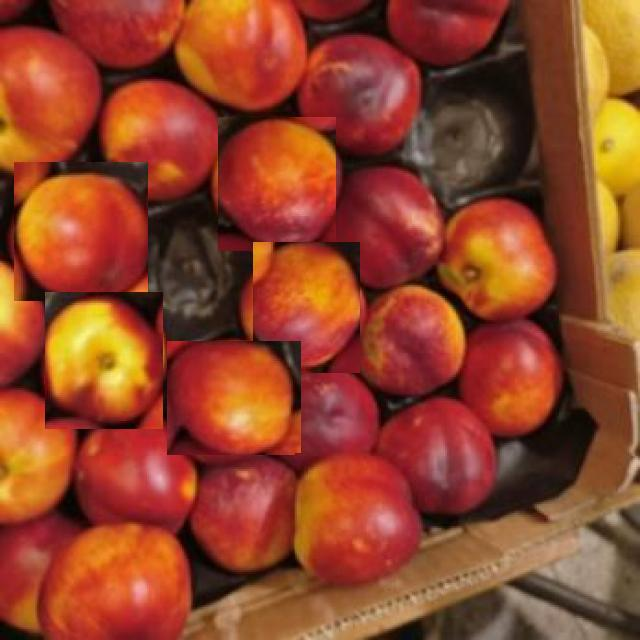Nectarine: (14, 161, 148, 301), (296, 453, 415, 591), (442, 199, 569, 326), (45, 292, 162, 429), (217, 118, 336, 251), (167, 341, 301, 455), (252, 243, 360, 373)
